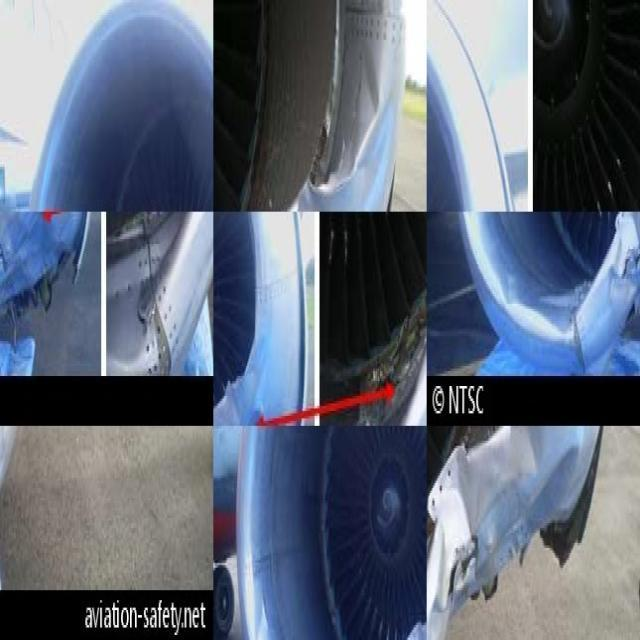dent: (349, 46, 382, 175), (447, 447, 483, 544), (512, 427, 545, 477)
